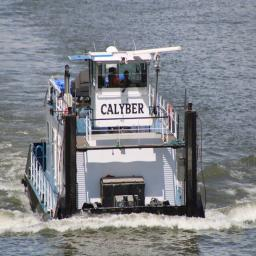tugboat: (22, 39, 210, 234)
